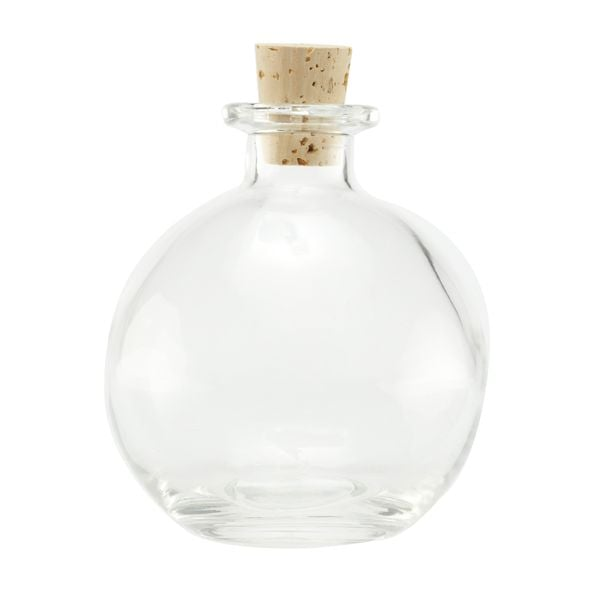glass_bottle: (92, 27, 511, 556)
